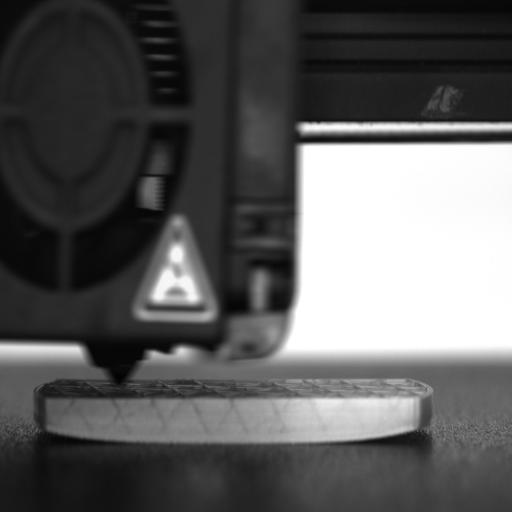warp: (382, 410, 446, 448)
